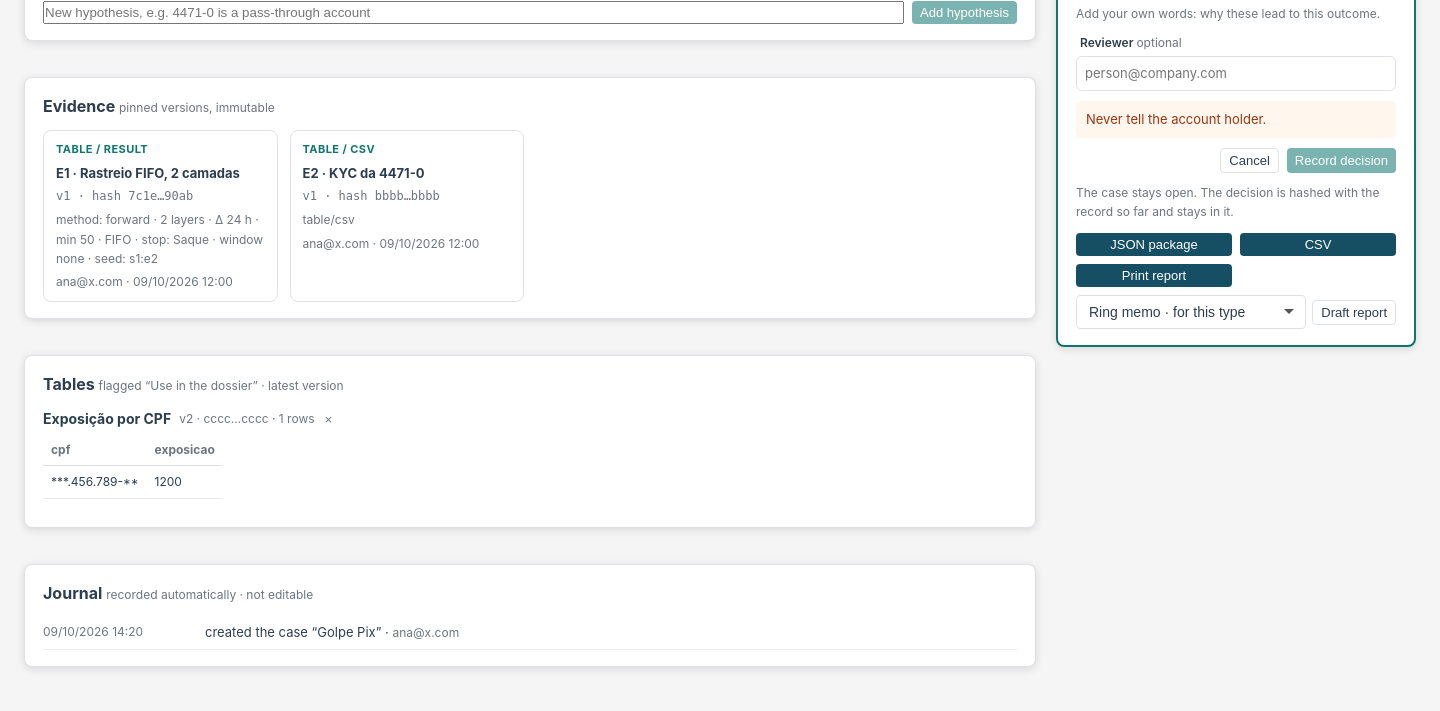
it: CaseDossier (mode=dossier) › drafts a report from an org template, the type's first
(page scrolled)
Click the button with test id "report-draft" at (1354, 312), box [1312,300,1396,325]
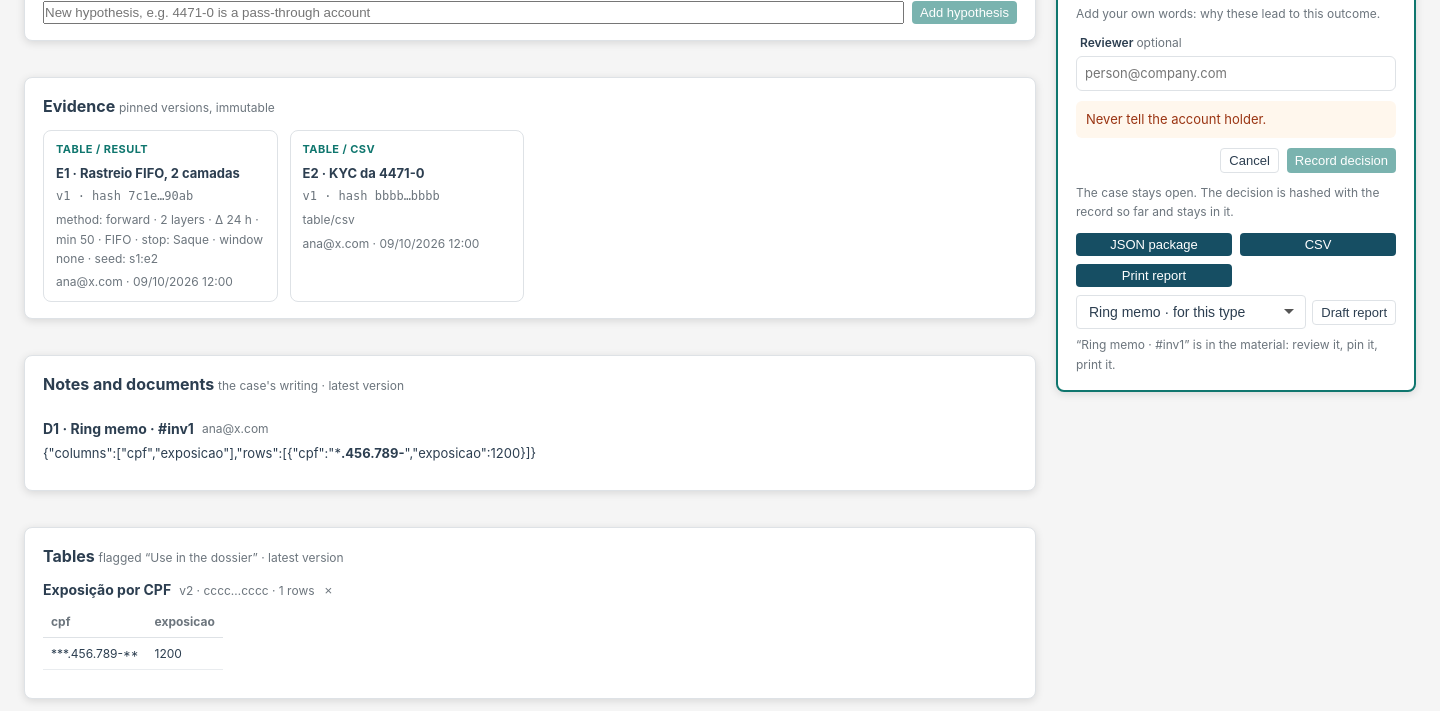
Result: the text with test id "report-drafted" shows "Ring memo · #inv1" at [1076,337,1378,372]
